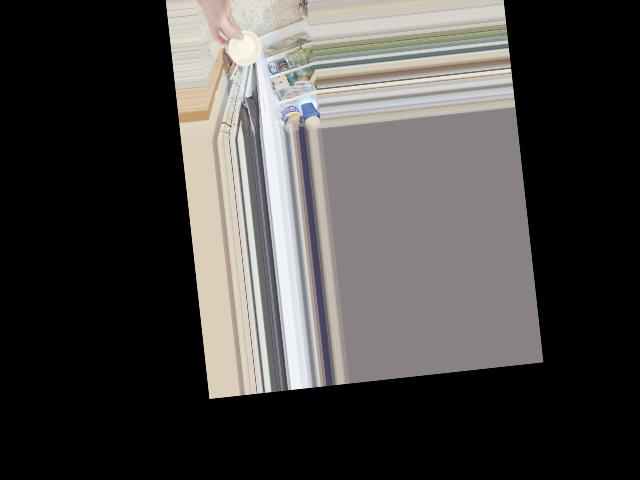cotage: (221, 26, 259, 67)
